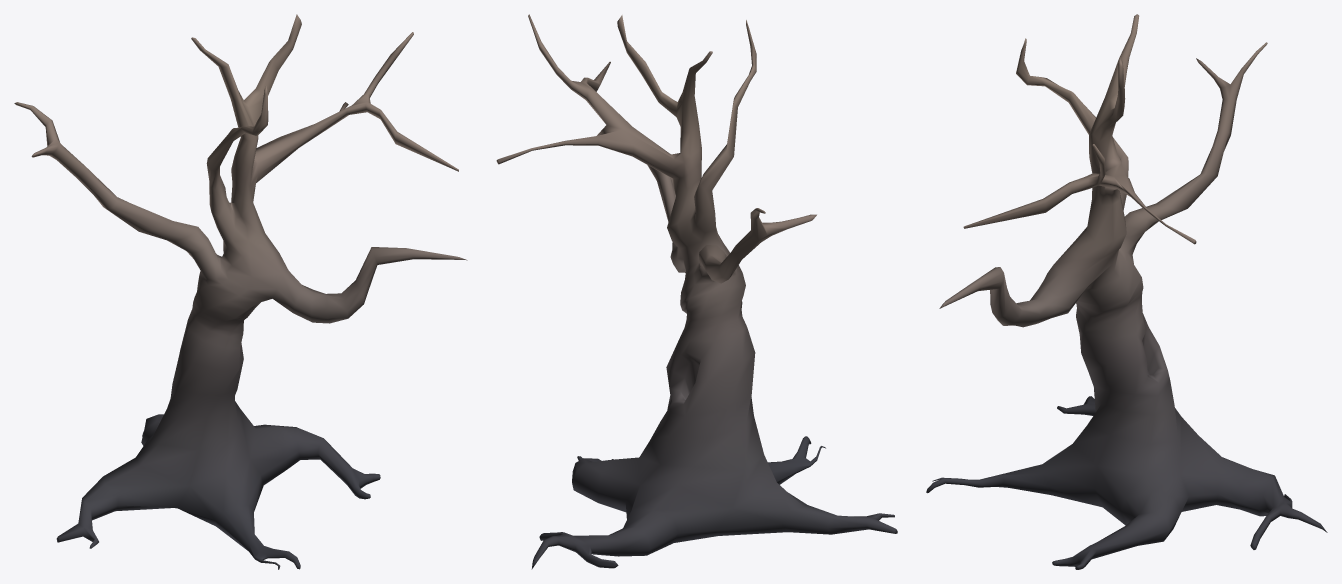
The model's file is NightTree.fbx.
3 renders of one model, left to right at view 1: azimuth 30°, elevation 25°; view 2: azimuth 150°, elevation 25°; view 3: azimuth 270°, elevation 25°, orthographic. The views are drawn at different scales.
Visible parts, largest first — view 1: DeadTree_LoPoly.002; view 2: DeadTree_LoPoly.002; view 3: DeadTree_LoPoly.002.
Part boxes in pixels (bbox=[...]): DeadTree_LoPoly.002: bbox=[14, 14, 467, 569]; DeadTree_LoPoly.002: bbox=[496, 14, 897, 569]; DeadTree_LoPoly.002: bbox=[926, 14, 1327, 569].
Size of the model in its own units: 700 by 883 by 656.
